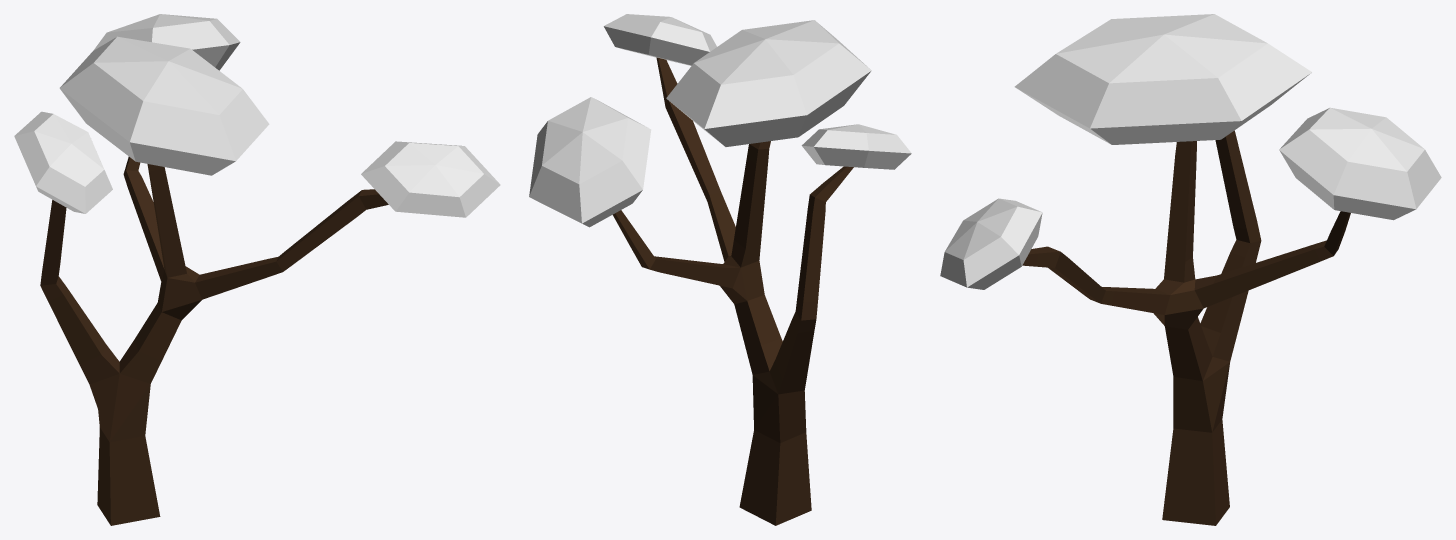
The model's file is Tree - Bare.fbx.
The picture shows the model from 3 angles, left to right: view 1: azimuth 30°, elevation 25°; view 2: azimuth 150°, elevation 25°; view 3: azimuth 270°, elevation 25°; orthographic projection. The views are drawn at different scales.
Parts seen in each view (by area): view 1: Sphere, Plane; view 2: Sphere, Plane; view 3: Sphere, Plane.
Part boxes in pixels (left/top/right/bottom): Sphere: left=14, top=14, right=500, bottom=217; Plane: left=40, top=156, right=388, bottom=525; Sphere: left=529, top=14, right=911, bottom=227; Plane: left=613, top=57, right=853, bottom=525; Sphere: left=940, top=14, right=1441, bottom=289; Plane: left=1022, top=130, right=1350, bottom=525.
Bounding box in the file's own units: 429 × 490 × 451.
